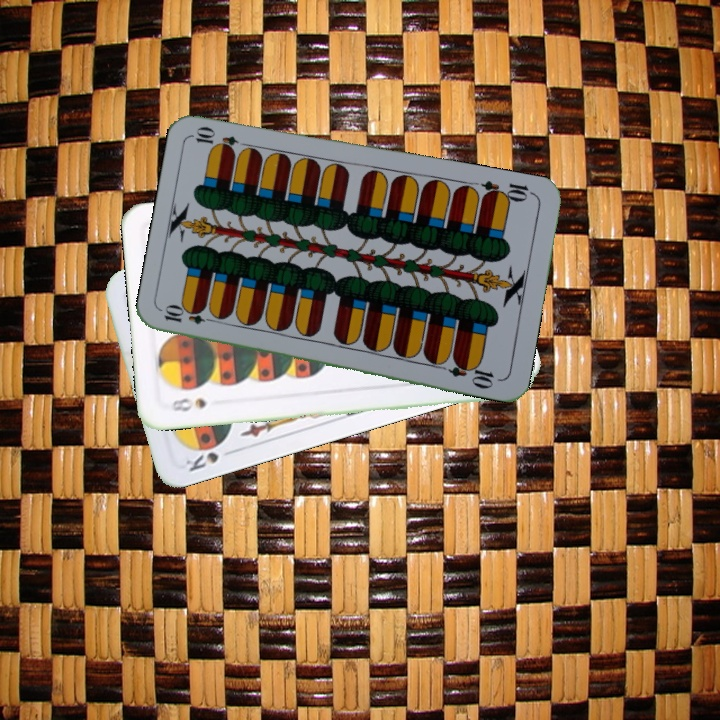E10: (478, 177, 537, 205), (160, 304, 219, 327)
S8: (168, 394, 209, 414)
SK: (181, 448, 222, 474)
